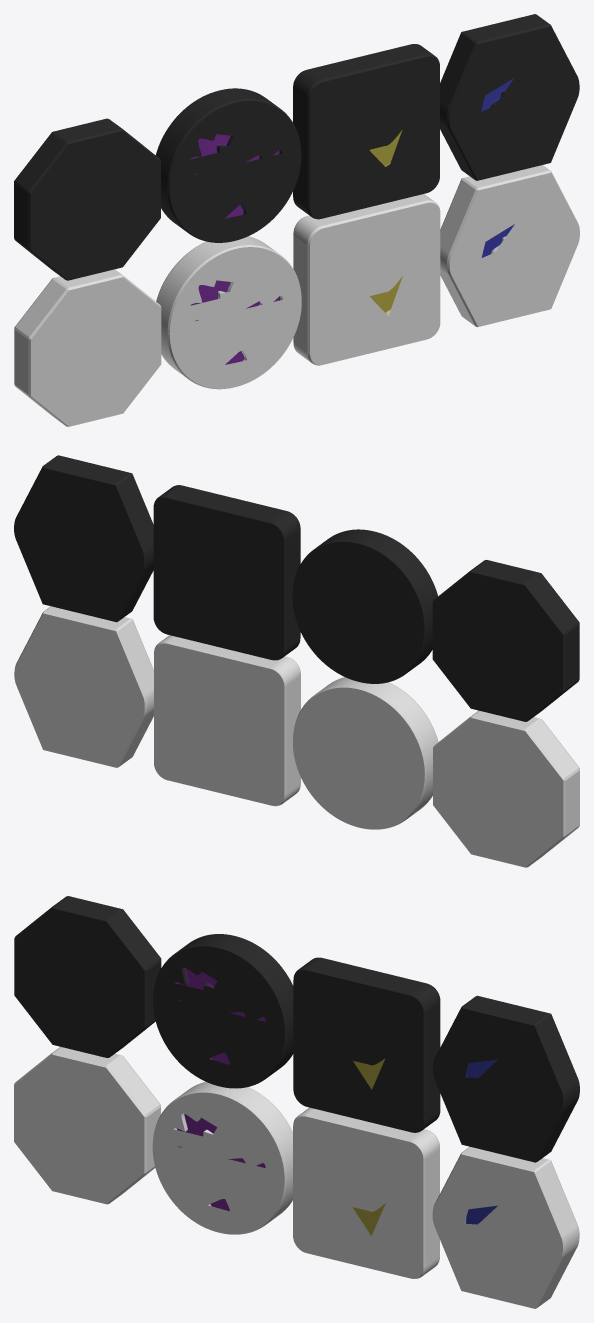
The model's file is TAYOG_PIECES_V2.fbx.
3 renders of one model, top to bottom at view 1: azimuth 30°, elevation 25°; view 2: azimuth 150°, elevation 25°; view 3: azimuth 330°, elevation 25°, orthographic.
Parts seen in each view (by area): view 1: DCKBLCK.002, DCKWHTE.002, CHCKNBLCK.002, CHCKNWHTE.002, HWKBLCK.002, EGLEBLCK.002, HWKWHTE.002, EGLEWHTE.002; view 2: DCKBLCK.002, DCKWHTE.002, CHCKNBLCK.002, CHCKNWHTE.002, HWKBLCK.002, EGLEBLCK.002, HWKWHTE.002, EGLEWHTE.002; view 3: DCKBLCK.002, DCKWHTE.002, HWKBLCK.002, CHCKNBLCK.002, CHCKNWHTE.002, HWKWHTE.002, EGLEBLCK.002, EGLEWHTE.002.
Part boxes in pixels (x1,y1,x2,y2): DCKBLCK.002: (293, 44, 439, 219); DCKWHTE.002: (293, 194, 440, 365); CHCKNBLCK.002: (14, 118, 160, 280); CHCKNWHTE.002: (14, 269, 161, 426); HWKBLCK.002: (440, 14, 579, 180); EGLEBLCK.002: (155, 88, 301, 242); HWKWHTE.002: (440, 165, 579, 327); EGLEWHTE.002: (156, 236, 301, 389); DCKBLCK.002: (153, 485, 300, 660); DCKWHTE.002: (154, 635, 300, 806); CHCKNBLCK.002: (432, 560, 579, 721); CHCKNWHTE.002: (433, 710, 579, 867); HWKBLCK.002: (14, 455, 153, 622); EGLEBLCK.002: (292, 529, 437, 683); HWKWHTE.002: (14, 606, 153, 767); EGLEWHTE.002: (293, 677, 438, 829); DCKBLCK.002: (293, 957, 440, 1132); DCKWHTE.002: (293, 1107, 439, 1278); HWKBLCK.002: (433, 995, 579, 1162); CHCKNBLCK.002: (14, 896, 161, 1057); CHCKNWHTE.002: (14, 1047, 160, 1204); HWKWHTE.002: (432, 1147, 579, 1308); EGLEBLCK.002: (153, 934, 293, 1088); EGLEWHTE.002: (152, 1081, 292, 1234).
Size of the model in its own units: 3.95 by 1.96 by 0.2121.
